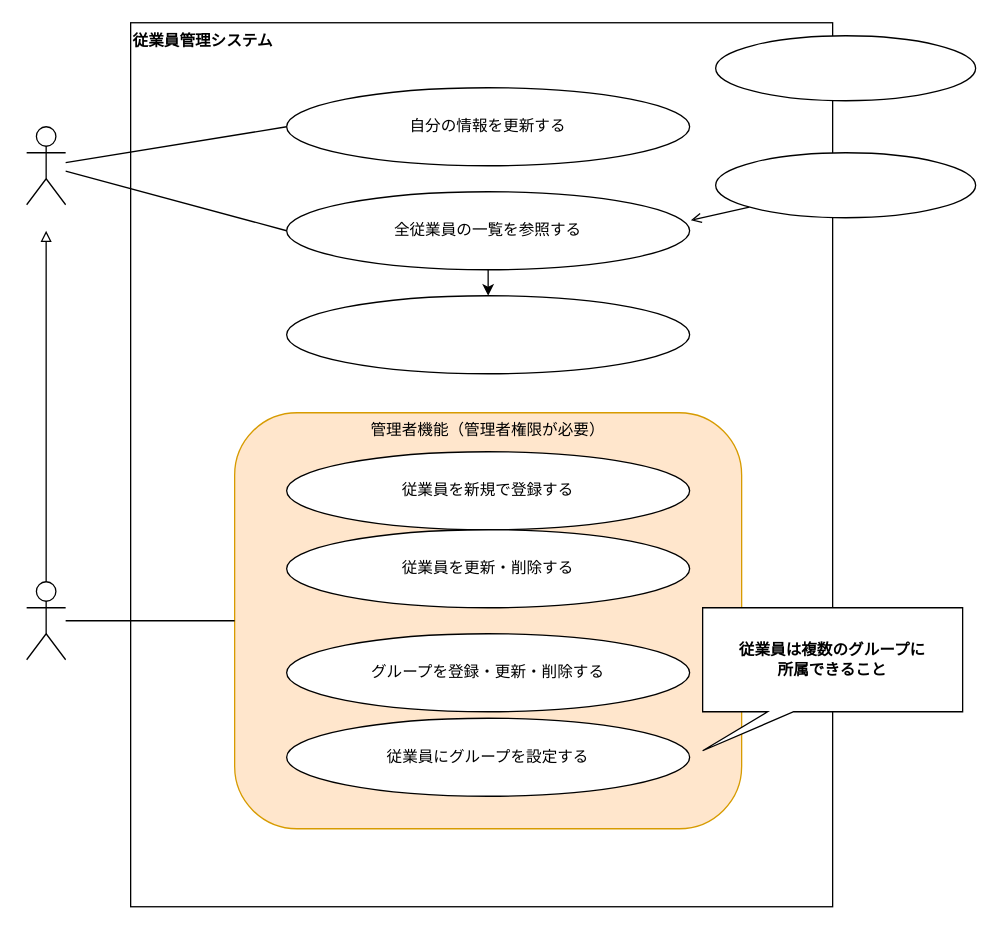
Image size: 998x929. Some labels were removed from this diagram. Each missing label, with the centre of its shape:
グループでフィルタリング可能: (x=845, y=184)
ログイン機能: (x=845, y=67)
従業員: (x=45, y=165)
従業員の詳細情報を参照する: (x=487, y=334)
管理者: (x=45, y=620)
